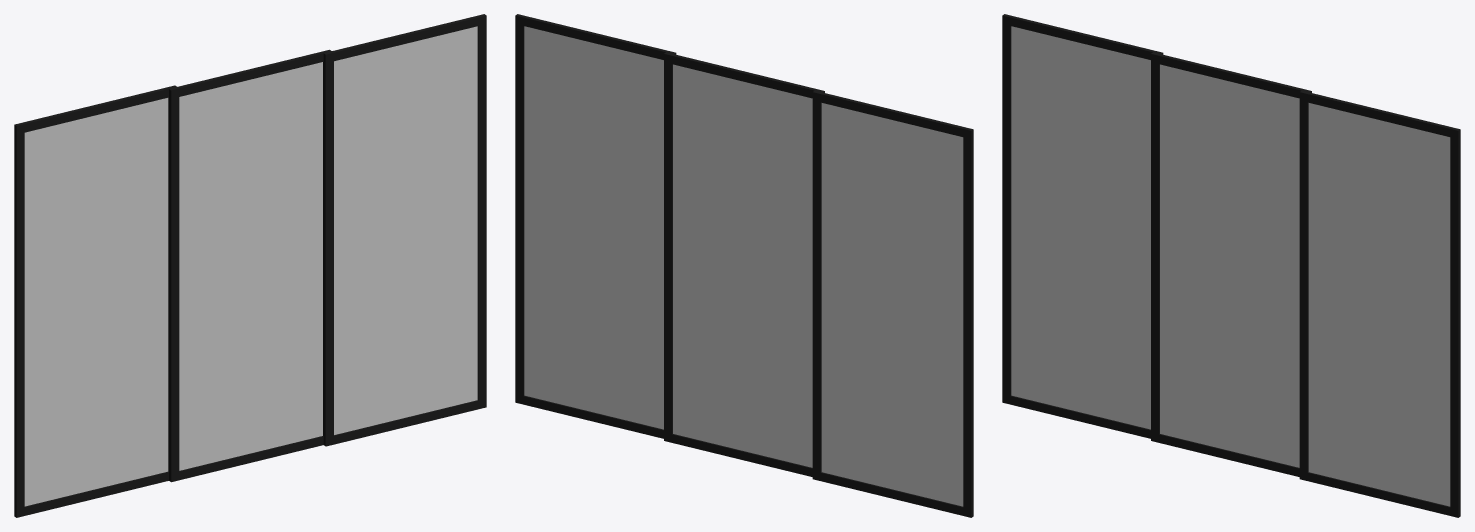
The model's file is SM_SlidingWindow_6.fbx.
3 views of the same model, side by side, from view 1: azimuth 30°, elevation 25°; view 2: azimuth 150°, elevation 25°; view 3: azimuth 330°, elevation 25° (orthographic).
Parts seen in each view (by area): view 1: SM_SlidingWindow_6, SM_SlidingWindow_6.001, SM_SlidingWindow_6.002; view 2: SM_SlidingWindow_6.001, SM_SlidingWindow_6.002, SM_SlidingWindow_6; view 3: SM_SlidingWindow_6, SM_SlidingWindow_6.002, SM_SlidingWindow_6.001.
Boxes of the visible parts, <box> form: SM_SlidingWindow_6: <box>323,14,486,446</box>; SM_SlidingWindow_6.001: <box>14,85,176,517</box>; SM_SlidingWindow_6.002: <box>169,49,331,482</box>; SM_SlidingWindow_6.001: <box>812,90,973,517</box>; SM_SlidingWindow_6.002: <box>664,52,824,476</box>; SM_SlidingWindow_6: <box>515,14,676,438</box>; SM_SlidingWindow_6: <box>1299,90,1460,517</box>; SM_SlidingWindow_6.002: <box>1151,52,1311,476</box>; SM_SlidingWindow_6.001: <box>1002,14,1163,438</box>.
Size of the model in its own units: 2.56 by 2.06 by 0.06.
2 materials, 1 textured.
